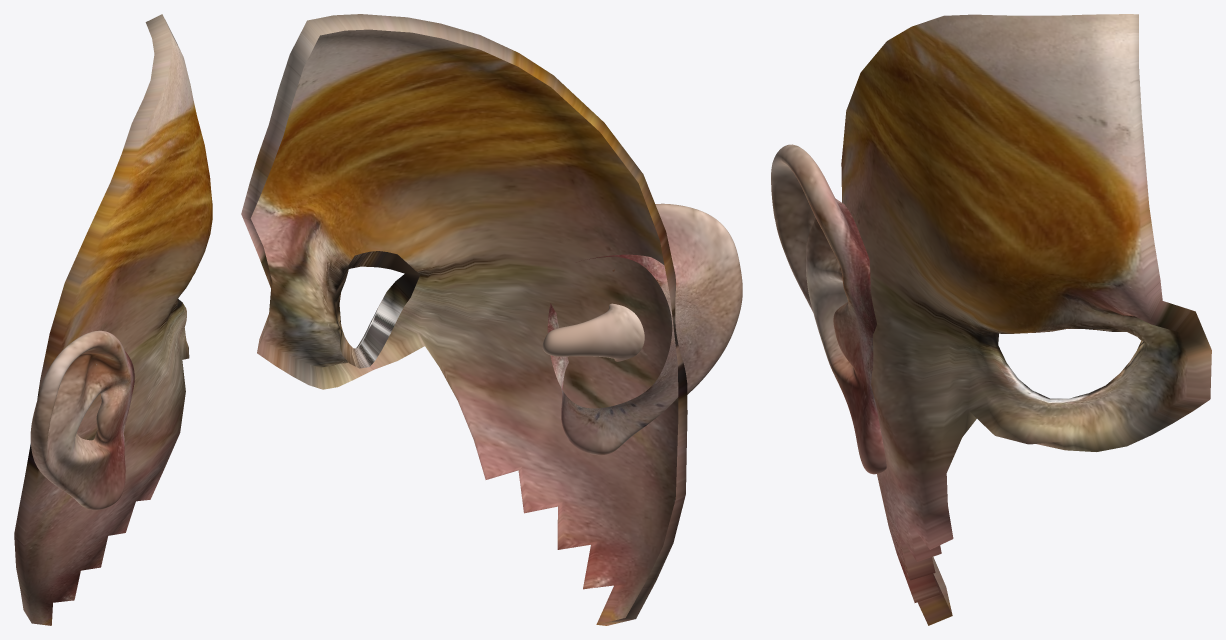
3 renders of one model, left to right at view 1: azimuth 30°, elevation 25°; view 2: azimuth 150°, elevation 25°; view 3: azimuth 270°, elevation 25°, orthographic. The views are drawn at different scales.
Parts seen in each view (by area): view 1: 01; view 2: 01; view 3: 01.
Part boxes in pixels (box(x1,y1,x2,y2)): 01: box(14, 14, 212, 625); 01: box(241, 14, 742, 625); 01: box(771, 14, 1211, 625).
Size of the model in its own units: 0.4651 by 0.775 by 0.4193.
2 materials, 2 textured.
